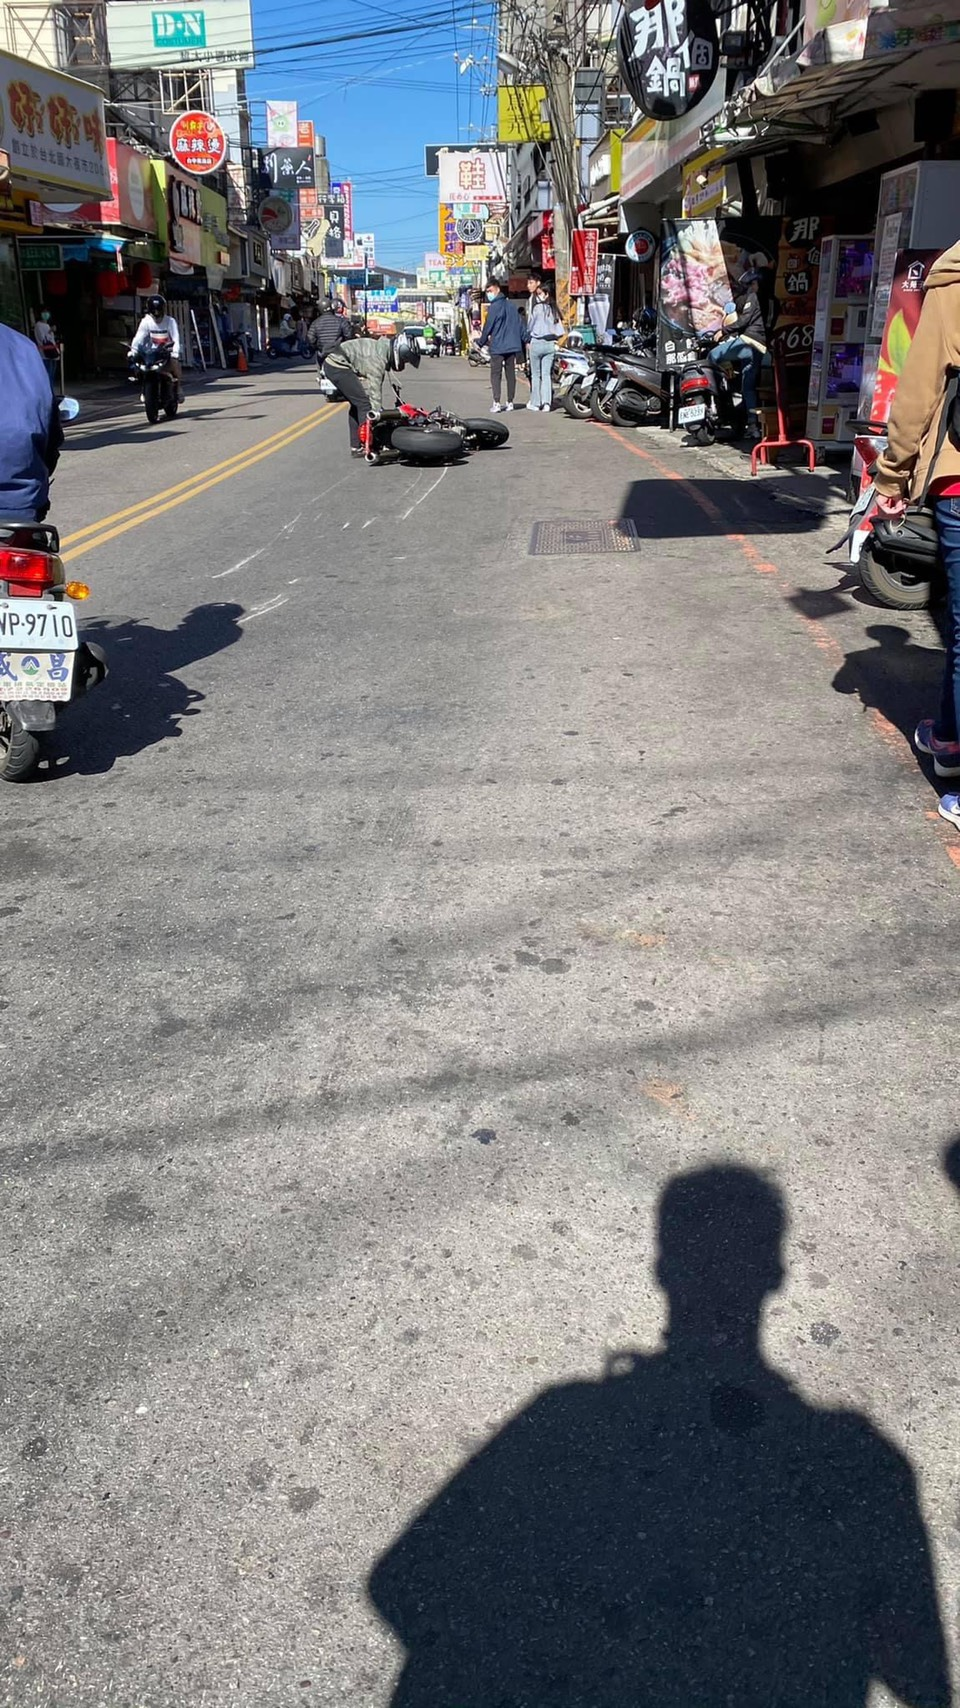people: (892, 222, 960, 827), (1, 314, 70, 800), (319, 306, 400, 460), (130, 281, 189, 430), (470, 271, 527, 419), (527, 281, 568, 414)
